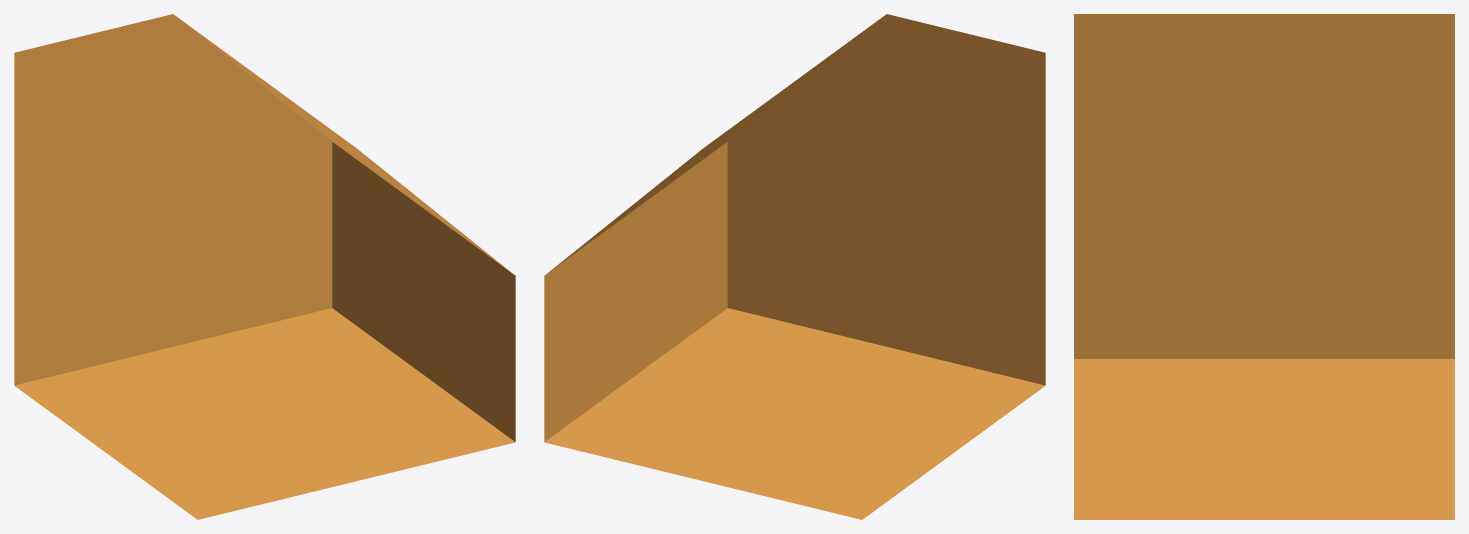
Rendered from r6c9_border_orange.gltf.
3 renders of one model, left to right at view 1: azimuth 30°, elevation 25°; view 2: azimuth 150°, elevation 25°; view 3: azimuth 270°, elevation 25°, orthographic. The views are drawn at different scales.
Parts seen in each view (by area): view 1: r6c9_border_orange; view 2: r6c9_border_orange; view 3: r6c9_border_orange.
Part boxes in pixels (bbox=[...]): r6c9_border_orange: bbox=[14, 14, 515, 519]; r6c9_border_orange: bbox=[544, 14, 1045, 519]; r6c9_border_orange: bbox=[1074, 14, 1454, 519].
Size of the model in its own units: 2 by 2 by 2.
Materials: 1 (1 with a texture image).
